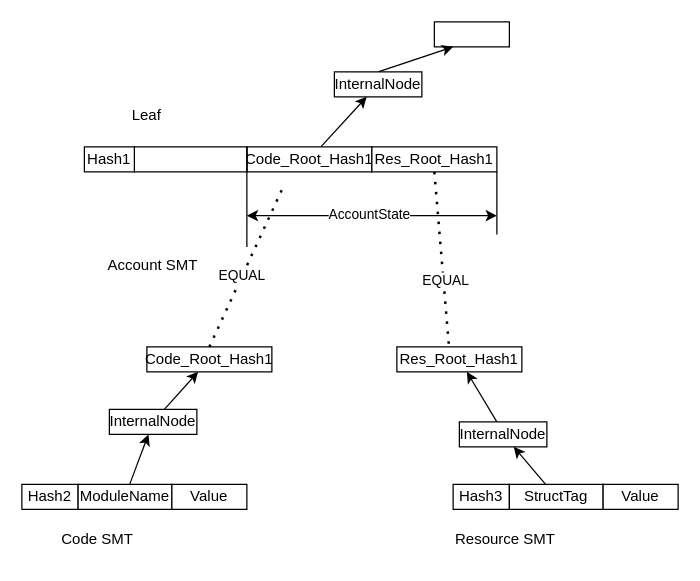
Image size: 700x581. Some labels were removed from this diagram. Here are the shapes that lost their labels. From the top down, the centre of each, then its label:
(x=471, y=34): Root_Hash
(x=190, y=159): AccountAdress1
